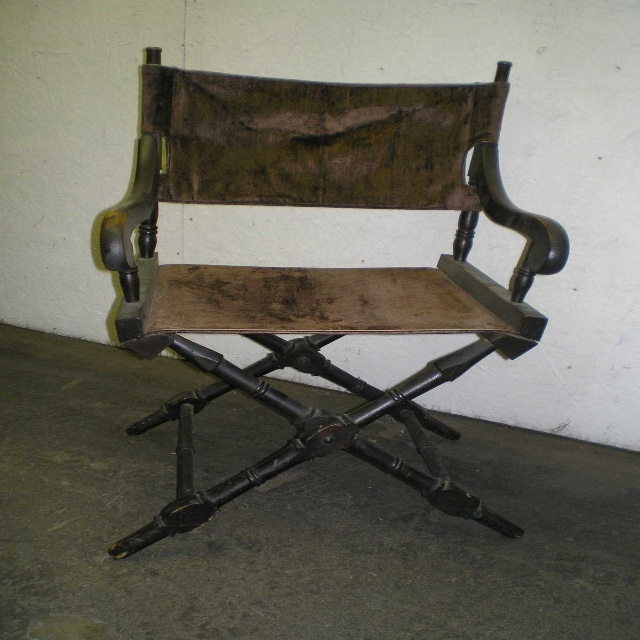obstacle: (100, 48, 568, 557)
